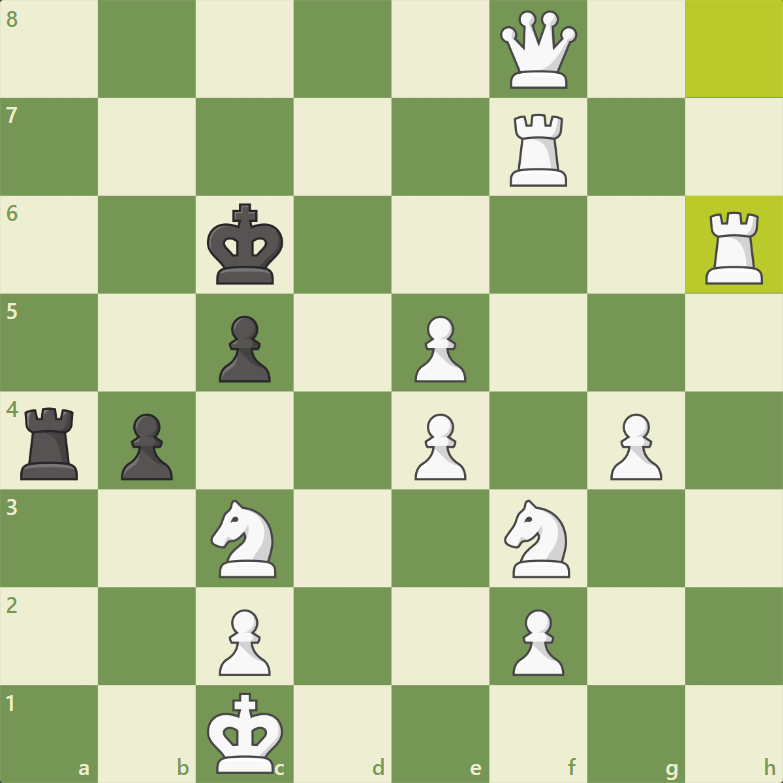K: (203, 689, 287, 776)
N: (501, 497, 574, 582), (208, 498, 280, 582)
P: (216, 607, 275, 680), (509, 606, 568, 679), (605, 411, 664, 484), (411, 410, 470, 483), (410, 313, 469, 386)
Q: (498, 7, 580, 92)
R: (703, 209, 766, 289), (506, 111, 569, 189)
k: (204, 201, 285, 289)
p: (216, 315, 276, 387), (120, 411, 175, 484)
r: (17, 406, 81, 484)
